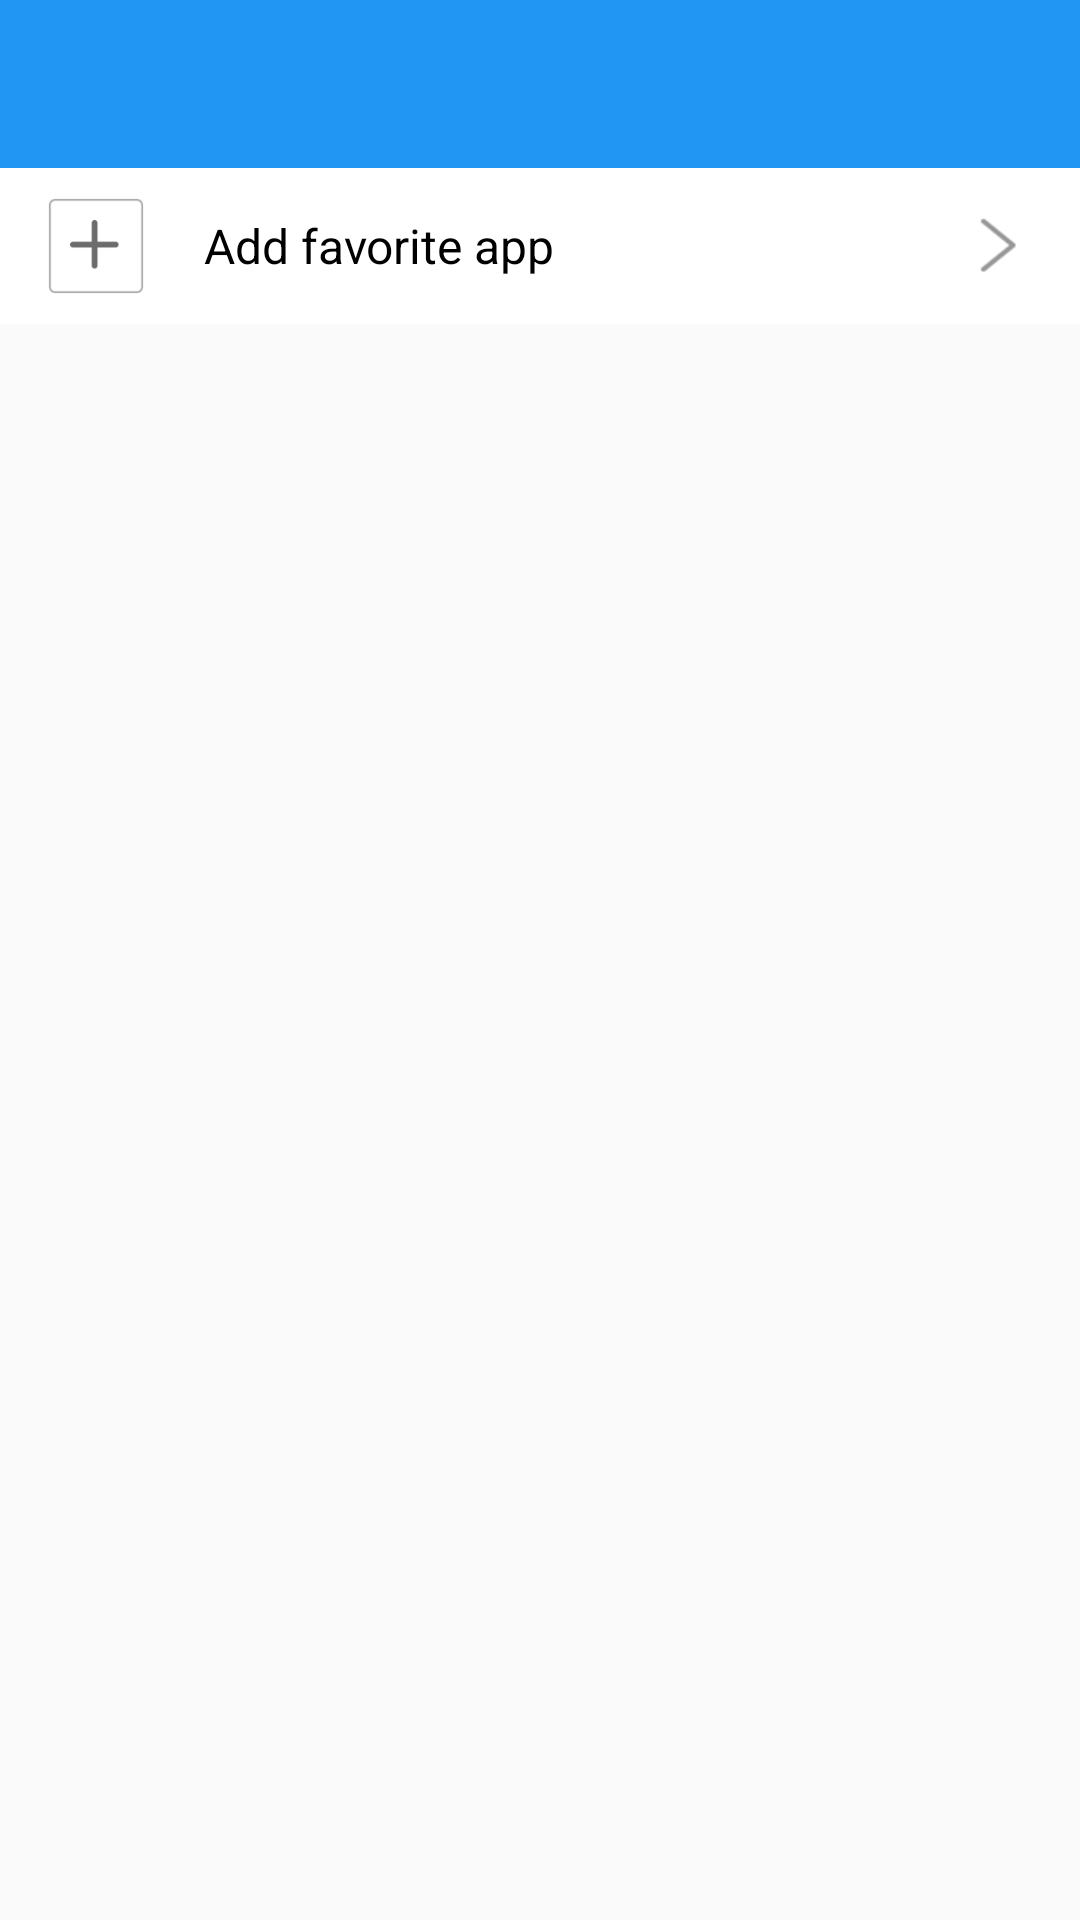

Icons on this 1080px x 1920px Android screen, each with its box as Rect(x1, y1, x2, y2):
addapp: Rect(49, 199, 143, 293)
arrow: Rect(981, 219, 1016, 272)
